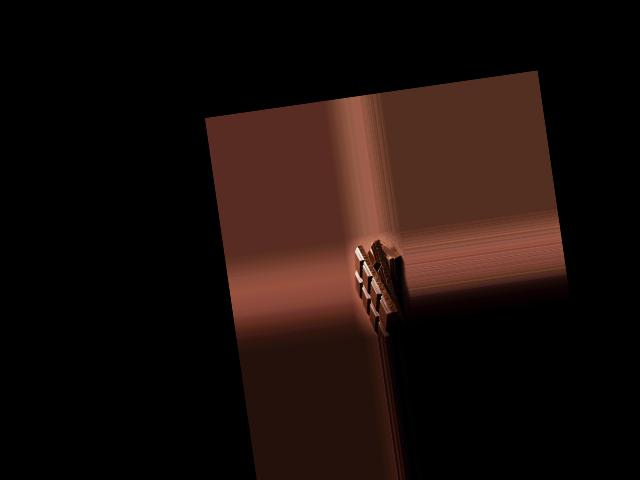chocolate: (350, 238, 405, 336)
